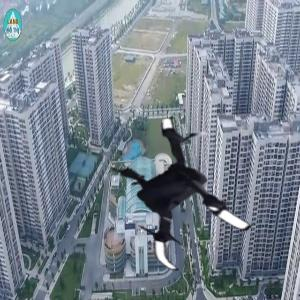drone: (92, 103, 264, 275)
